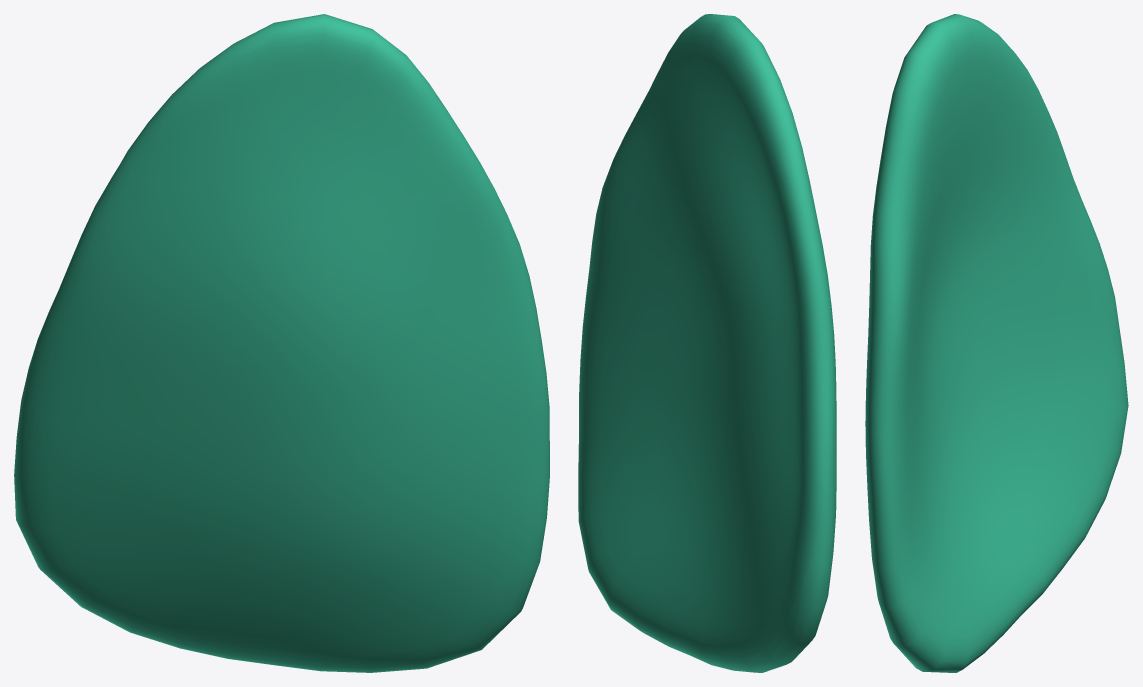
The model's file is TL2_Enamel_Diamond.001 3.glb.
The picture shows the model from 3 angles, left to right: view 1: azimuth 30°, elevation 25°; view 2: azimuth 150°, elevation 25°; view 3: azimuth 270°, elevation 25°; orthographic projection. The views are drawn at different scales.
Visible parts, largest first — view 1: TL2_Enamel_Diamond.001; view 2: TL2_Enamel_Diamond.001; view 3: TL2_Enamel_Diamond.001.
Part boxes in pixels (x1,y1,x2,y2): TL2_Enamel_Diamond.001: [14, 14, 549, 672]; TL2_Enamel_Diamond.001: [578, 14, 836, 672]; TL2_Enamel_Diamond.001: [865, 14, 1128, 672].
Bounding box in the file's own units: 0.5874 × 0.9558 × 0.3766.
